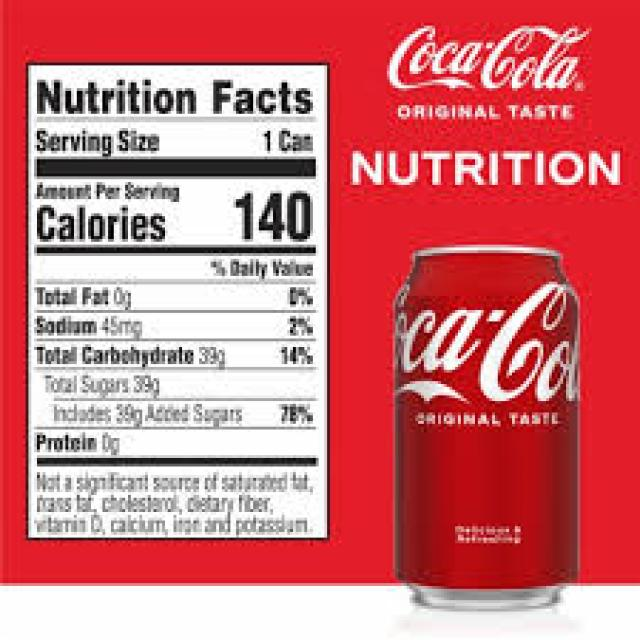Cans: (390, 242, 577, 620)
